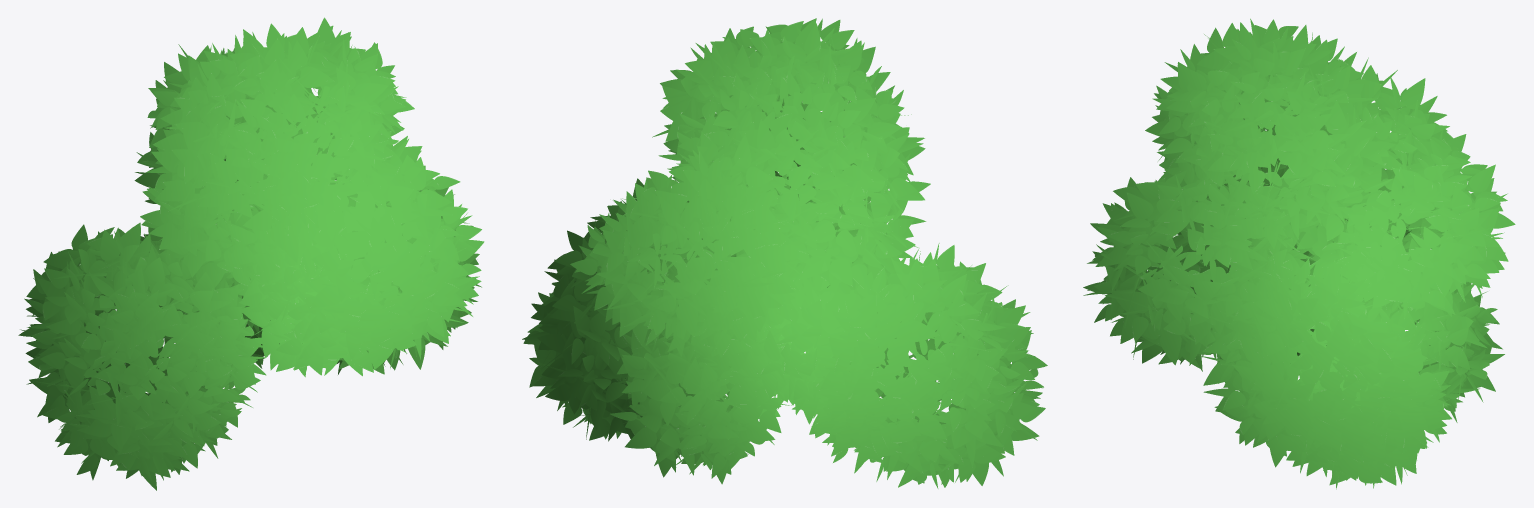
File: ArbolLod1.fbx
3 renders of one model, left to right at view 1: azimuth 30°, elevation 25°; view 2: azimuth 150°, elevation 25°; view 3: azimuth 270°, elevation 25°, orthographic.
Parts seen in each view (by area): view 1: Hoja.003; view 2: Hoja.003; view 3: Hoja.003.
Part boxes in pixels (<box>): Hoja.003: <box>18,17,484,490</box>; Hoja.003: <box>522,18,1047,488</box>; Hoja.003: <box>1083,18,1515,489</box>.
Size of the model in its own units: 546 by 475 by 452.
